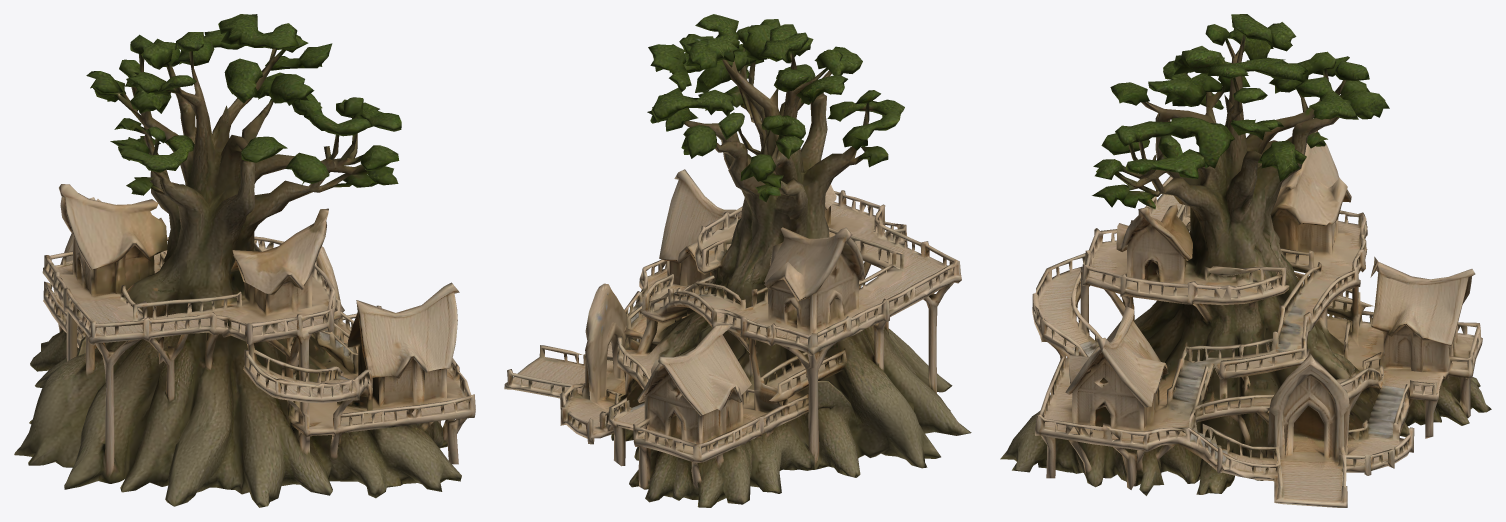
File: Эльфы1.glb
The picture shows the model from 3 angles, left to right: view 1: azimuth 30°, elevation 25°; view 2: azimuth 150°, elevation 25°; view 3: azimuth 270°, elevation 25°; orthographic projection. The views are drawn at different scales.
Parts seen in each view (by area): view 1: tripo_node_5f2c6422-e30c-4984-86a3-b9231765b3b8; view 2: tripo_node_5f2c6422-e30c-4984-86a3-b9231765b3b8; view 3: tripo_node_5f2c6422-e30c-4984-86a3-b9231765b3b8.
Part boxes in pixels (x1,y1,x2,y2): tripo_node_5f2c6422-e30c-4984-86a3-b9231765b3b8: [14, 14, 475, 507]; tripo_node_5f2c6422-e30c-4984-86a3-b9231765b3b8: [504, 14, 971, 507]; tripo_node_5f2c6422-e30c-4984-86a3-b9231765b3b8: [1000, 14, 1491, 507].
Size of the model in its own units: 0.9201 by 0.8605 by 1.
Materials: 1 (1 with a texture image).
